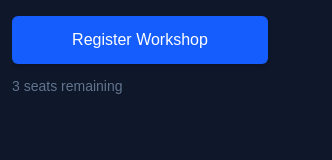
registers a member directly and updates the remaining seats
The image size is (332, 160).
Click the button "Register Workshop". click: (140, 40)
box: [12,16,268,64]
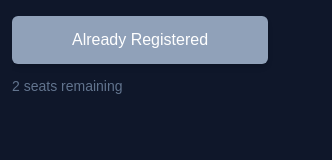
Check: the button "Already Registered" is disabled, box [12,16,268,64]
Check: the text "2 seats remaining" is shown, box [12,78,122,94]
